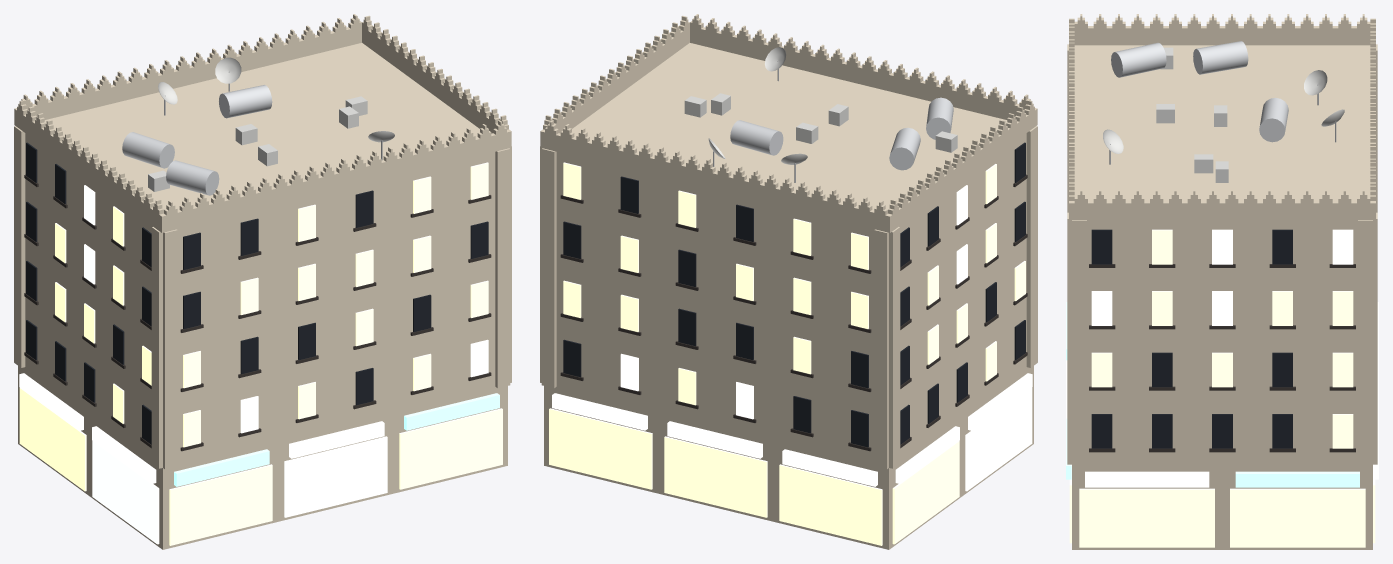
File: SM_RiyadhBlock_04.fbx
The picture shows the model from 3 angles, left to right: view 1: azimuth 30°, elevation 25°; view 2: azimuth 150°, elevation 25°; view 3: azimuth 270°, elevation 25°; orthographic projection. The views are drawn at different scales.
Parts seen in each view (by area): view 1: SM_RiyadhBlock_04; view 2: SM_RiyadhBlock_04; view 3: SM_RiyadhBlock_04.
Part boxes in pixels (x1=…): SM_RiyadhBlock_04: x1=14, y1=14, x2=511, y2=549; SM_RiyadhBlock_04: x1=540, y1=14, x2=1037, y2=549; SM_RiyadhBlock_04: x1=1066, y1=14, x2=1378, y2=549.
Bounding box in the file's own units: 2262 × 2135 × 1662.
